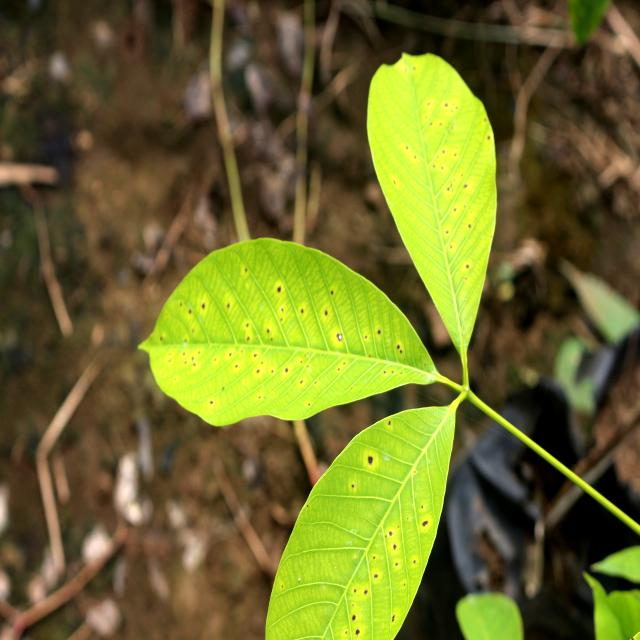Colletotrichum: (368, 456, 373, 465), (338, 333, 342, 341), (352, 614, 356, 622), (356, 629, 360, 634)
